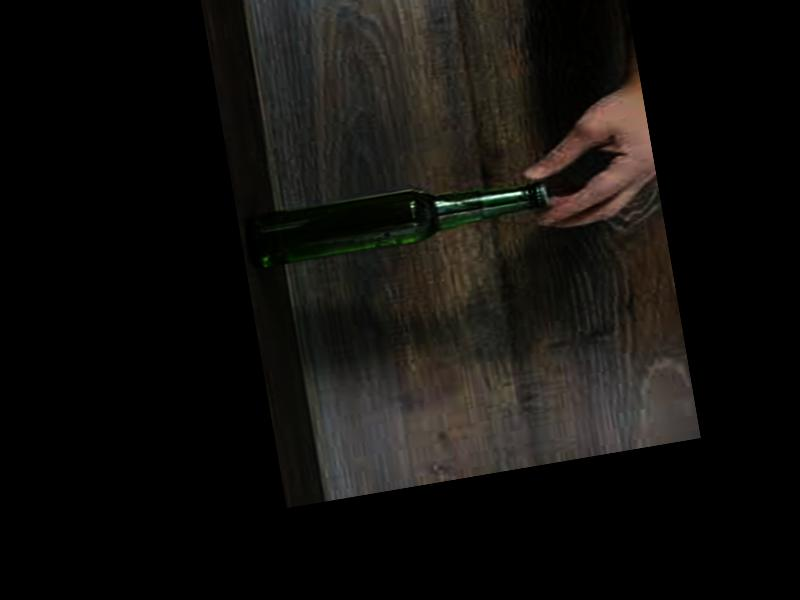Beer: (244, 165, 553, 269)
